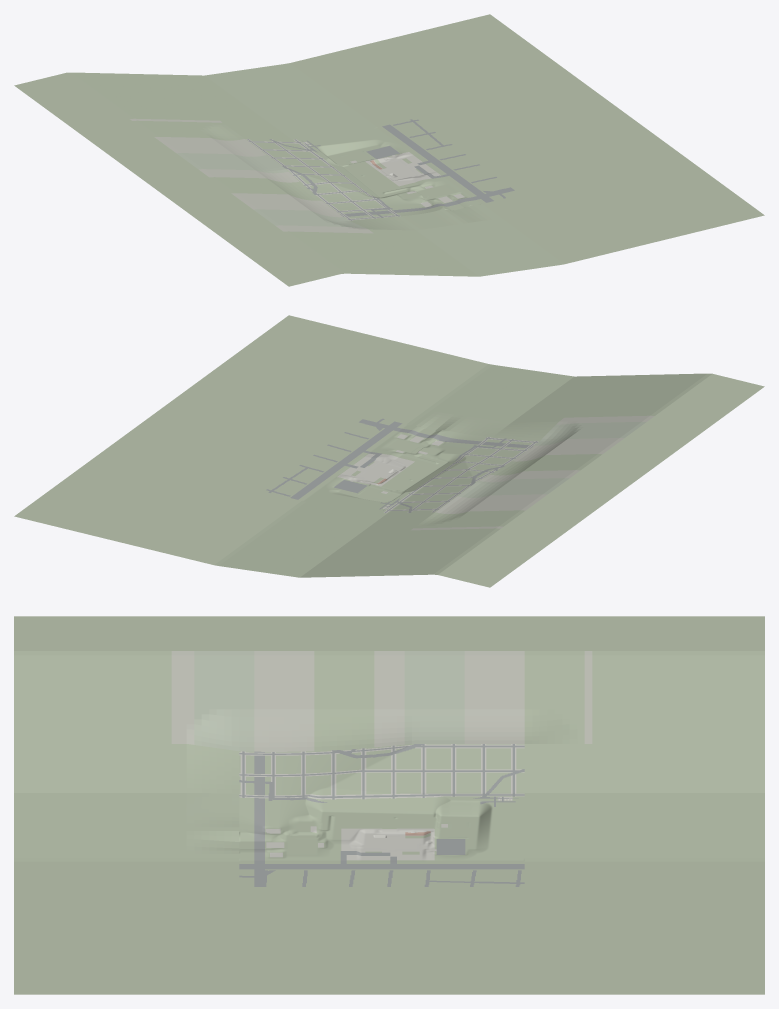
The picture shows the model from 3 angles, top to bottom: view 1: azimuth 30°, elevation 25°; view 2: azimuth 150°, elevation 25°; view 3: azimuth 270°, elevation 25°; orthographic projection. The views are drawn at different scales.
Visible parts, largest first — view 1: background-ground, ground-grass, road, plaza; view 2: background-ground, ground-grass, road, plaza; view 3: background-ground, ground-grass, road, plaza.
Boxes of the visible parts, box(x1,y1,x2,y2) form: background-ground: box(14, 14, 764, 286); ground-grass: box(245, 118, 520, 220); road: box(247, 119, 514, 220); plaza: box(246, 139, 464, 220); background-ground: box(14, 315, 764, 587); ground-grass: box(264, 415, 538, 513); road: box(266, 418, 537, 512); plaza: box(337, 434, 538, 513); background-ground: box(14, 616, 764, 994); ground-grass: box(239, 744, 524, 886); road: box(239, 744, 524, 886); plaza: box(239, 744, 524, 860).
Size of the model in its own units: 1000 by 93.1 by 1000.
